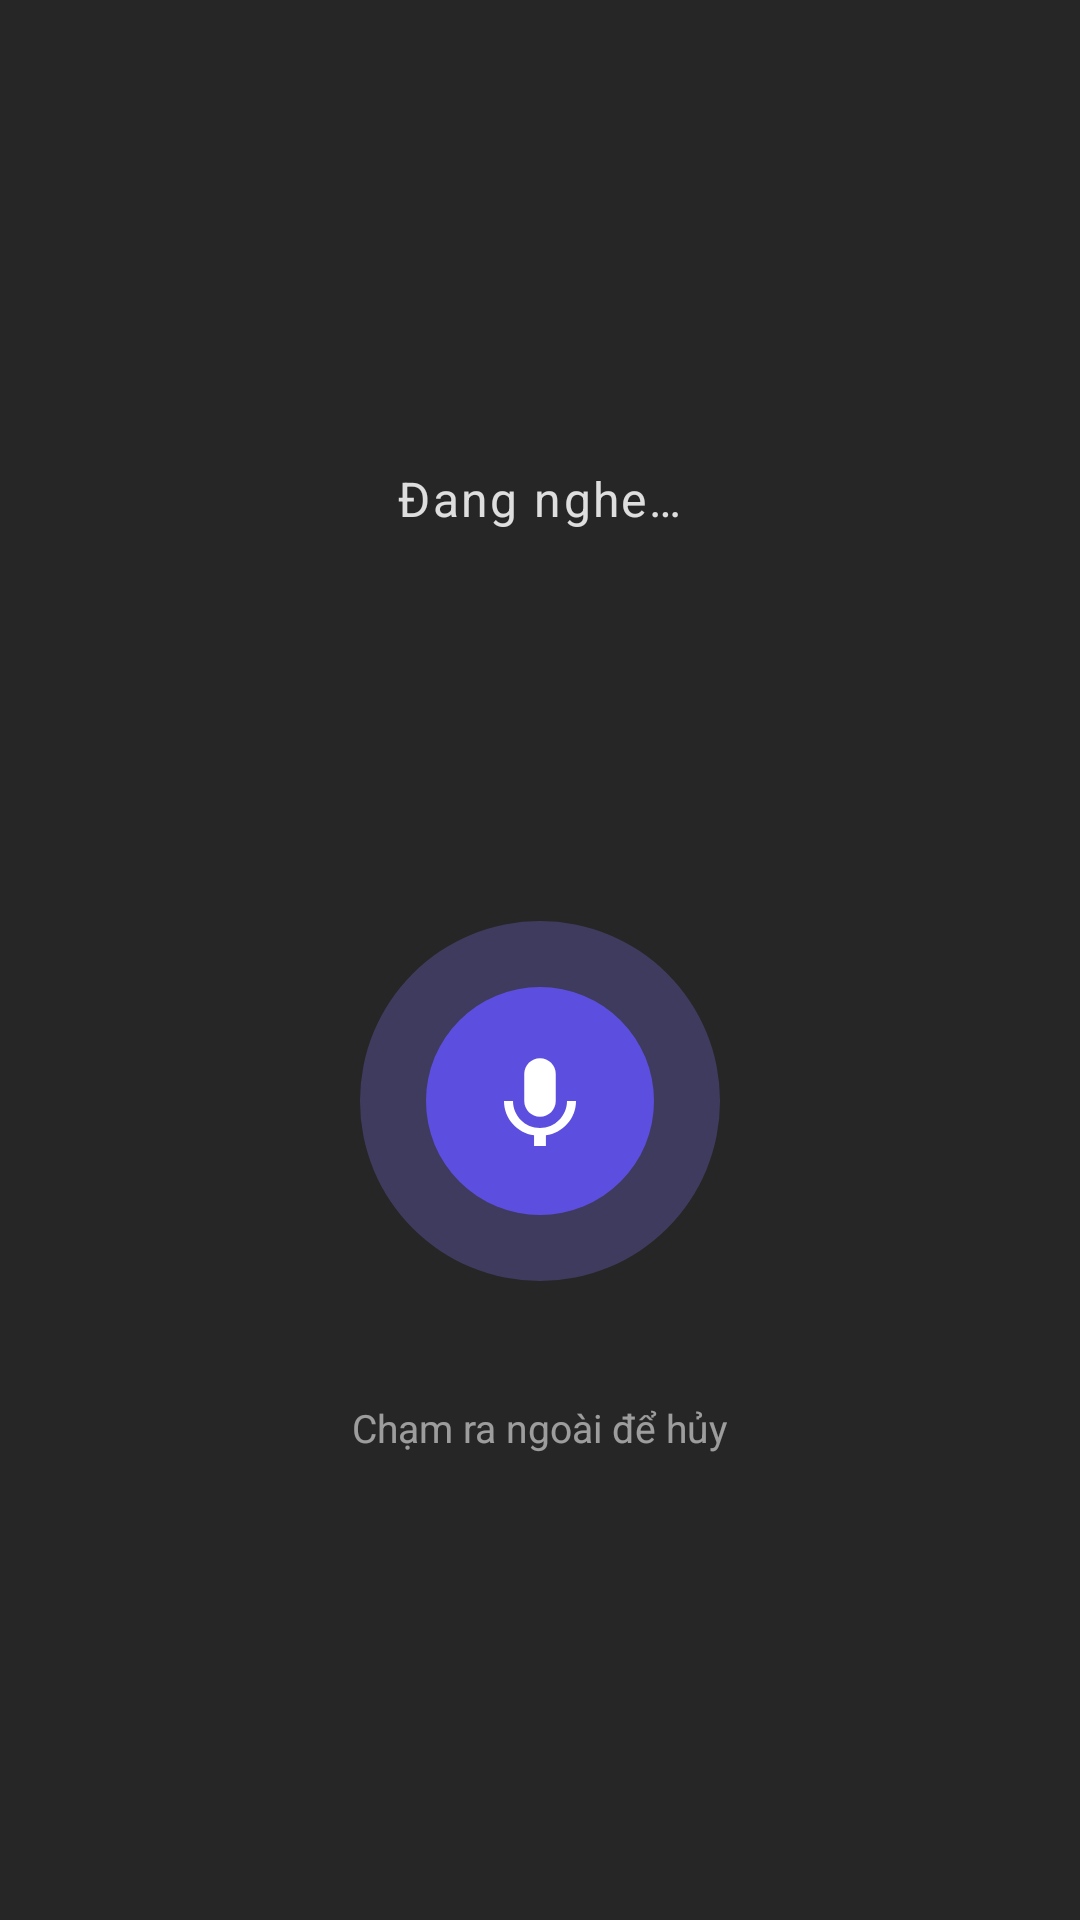

Screen size 1080x1920. Icon name, then its center in pixels as (x=x, y=y):
Trợ lý giọng nói: (x=540, y=1102)
